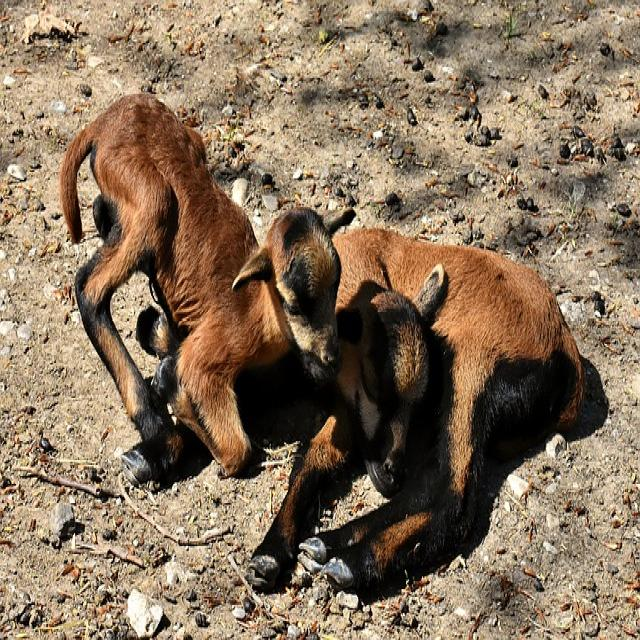sheep: (238, 221, 585, 594), (59, 91, 357, 487)
